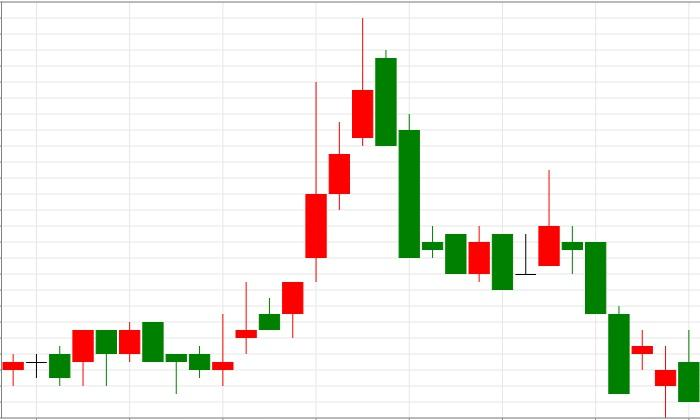shooting_star_fall: (212, 18, 374, 385)
